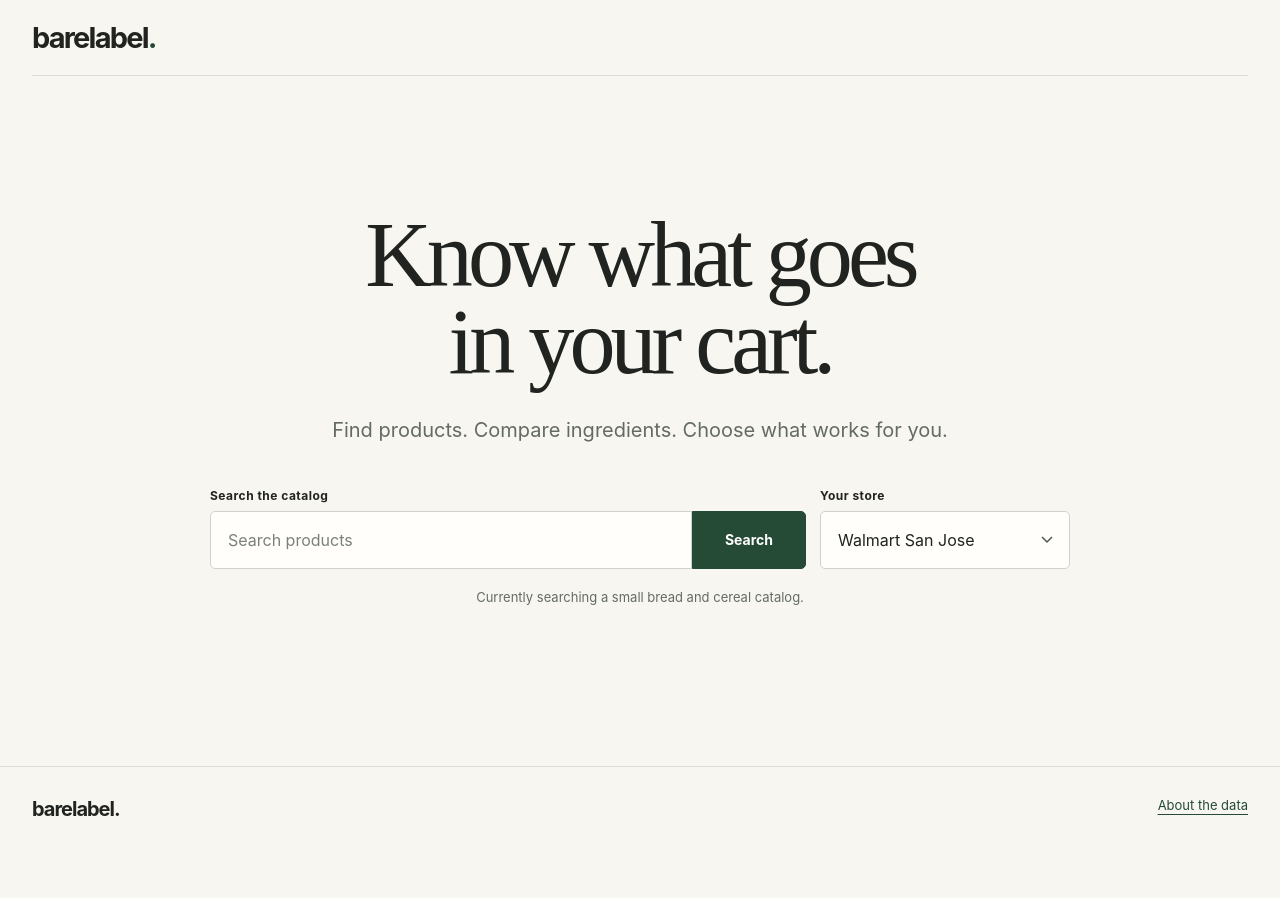
search-first shopper flow › starts idle, maps store names, and requests products only after search
Expected: the heading named "Know what goes in your cart." is shown, [365,204,915,393]
Type "bread" into the search field labelled "Search the catalog" at (451, 540), box [210,511,692,569]
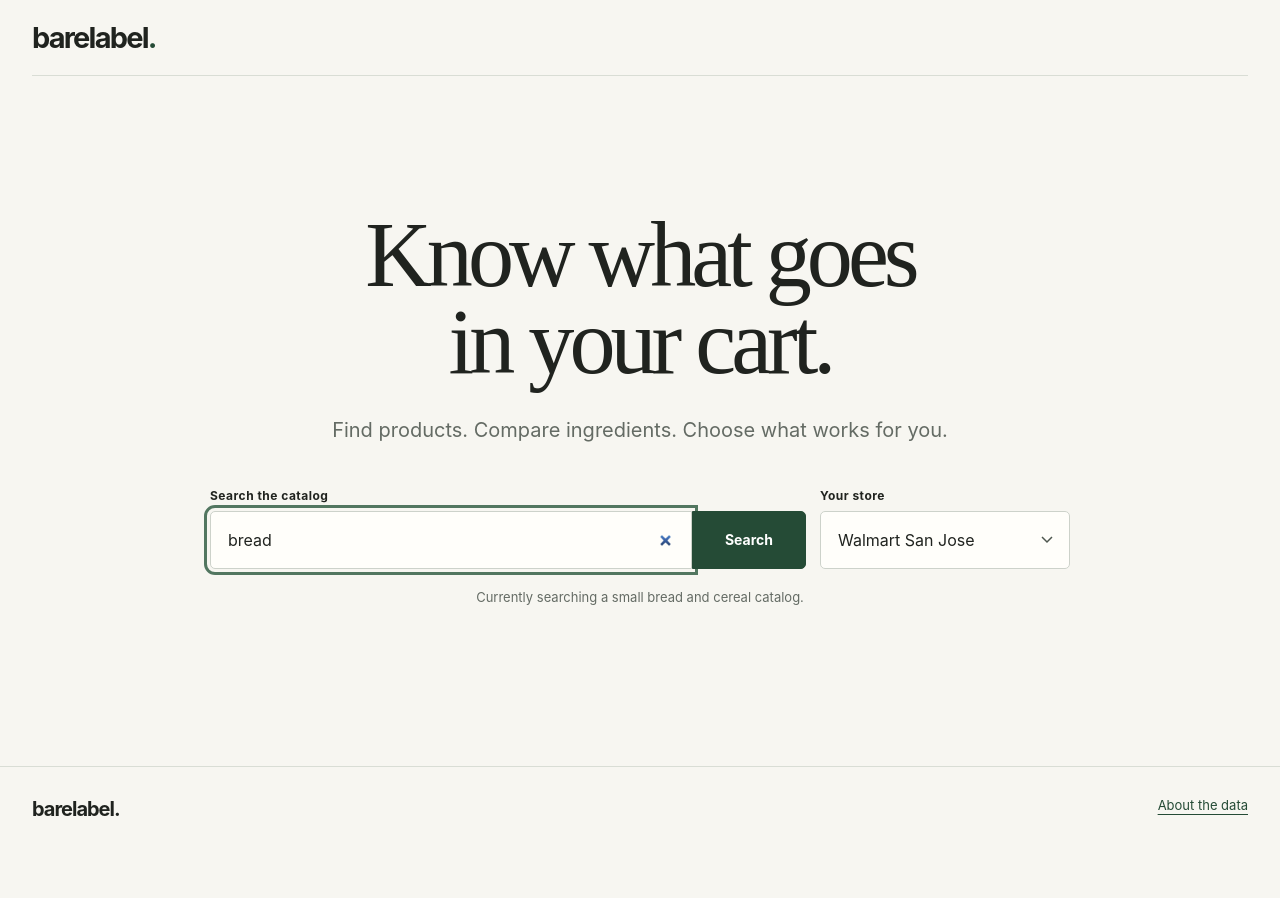
Click the button with aria-label "Search products" at (749, 540), box [692,511,806,569]
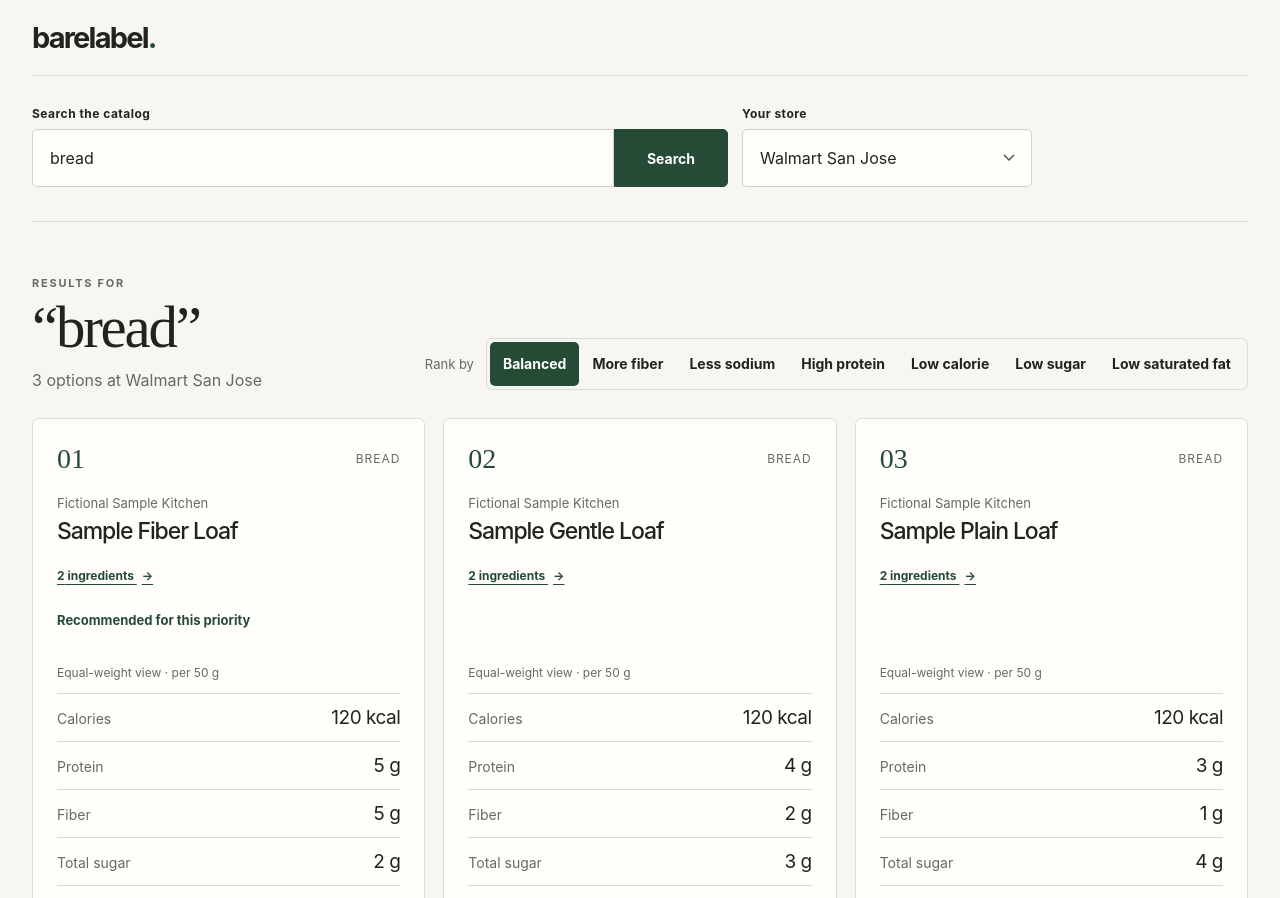
Now the element named "Rank by" is shown, box [486,338,1248,390]
